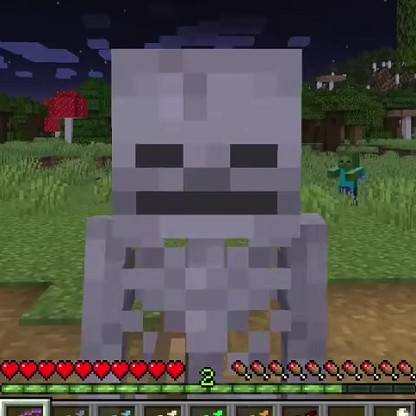skeleton: (85, 47, 330, 356)
